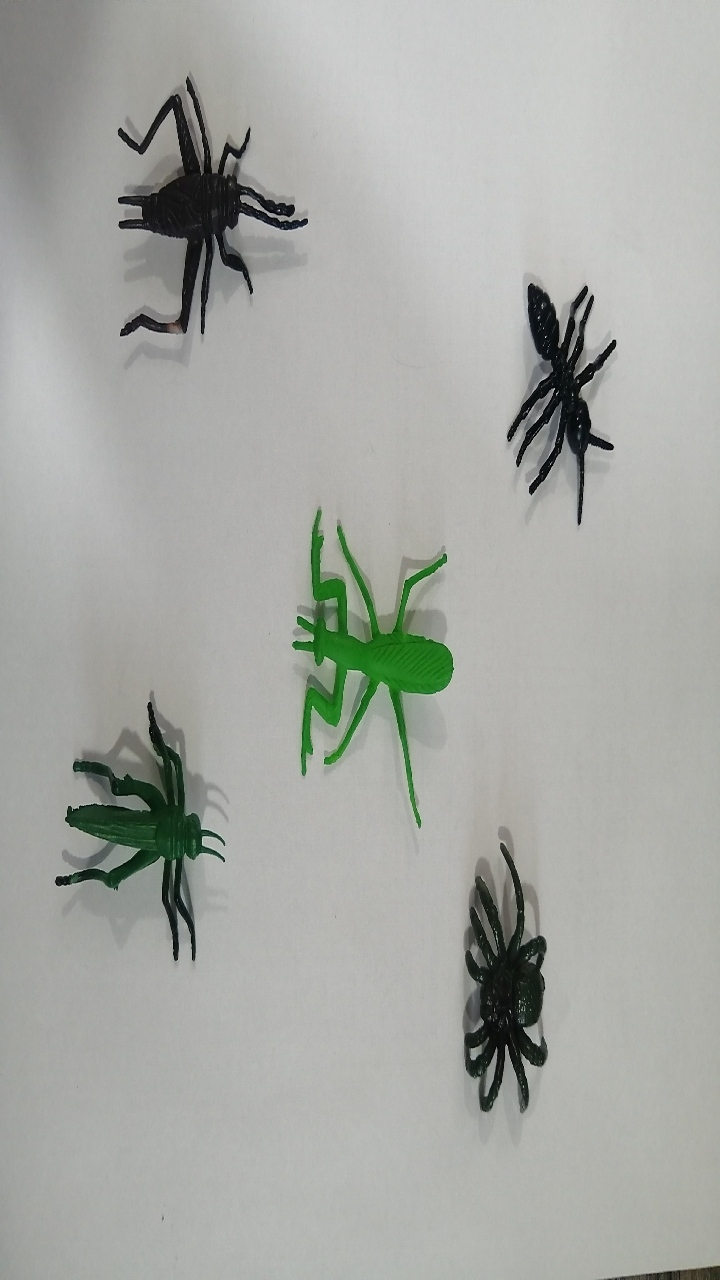intruso: (88, 57, 323, 412), (255, 475, 472, 851), (38, 665, 241, 994), (424, 831, 595, 1143), (472, 234, 643, 539)
